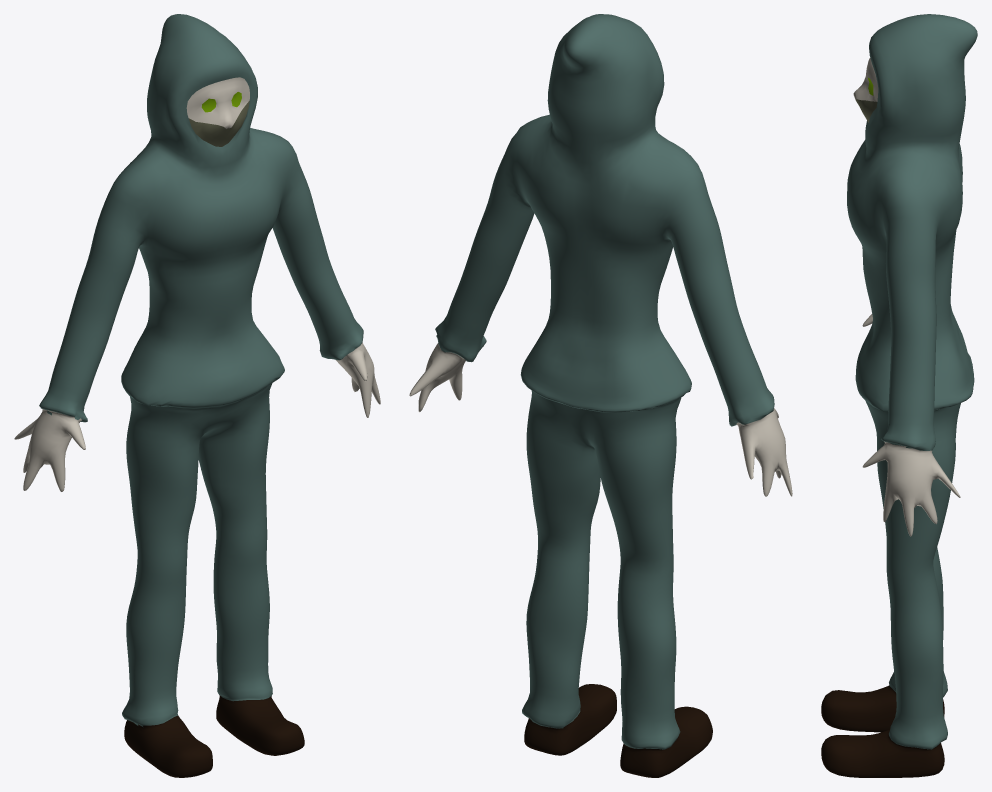
File: Hoodie.fbx
3 renders of one model, left to right at view 1: azimuth 30°, elevation 25°; view 2: azimuth 150°, elevation 25°; view 3: azimuth 270°, elevation 25°, orthographic. The views are drawn at different scales.
Visible parts, largest first — view 1: Hoodie_Low:Group1; view 2: Hoodie_Low:Group1; view 3: Hoodie_Low:Group1.
Part boxes in pixels (<box>): Hoodie_Low:Group1: <box>14,14,380,777</box>; Hoodie_Low:Group1: <box>409,14,792,777</box>; Hoodie_Low:Group1: <box>821,14,977,777</box>.
Size of the model in its own units: 6.74 by 12.82 by 2.49.
